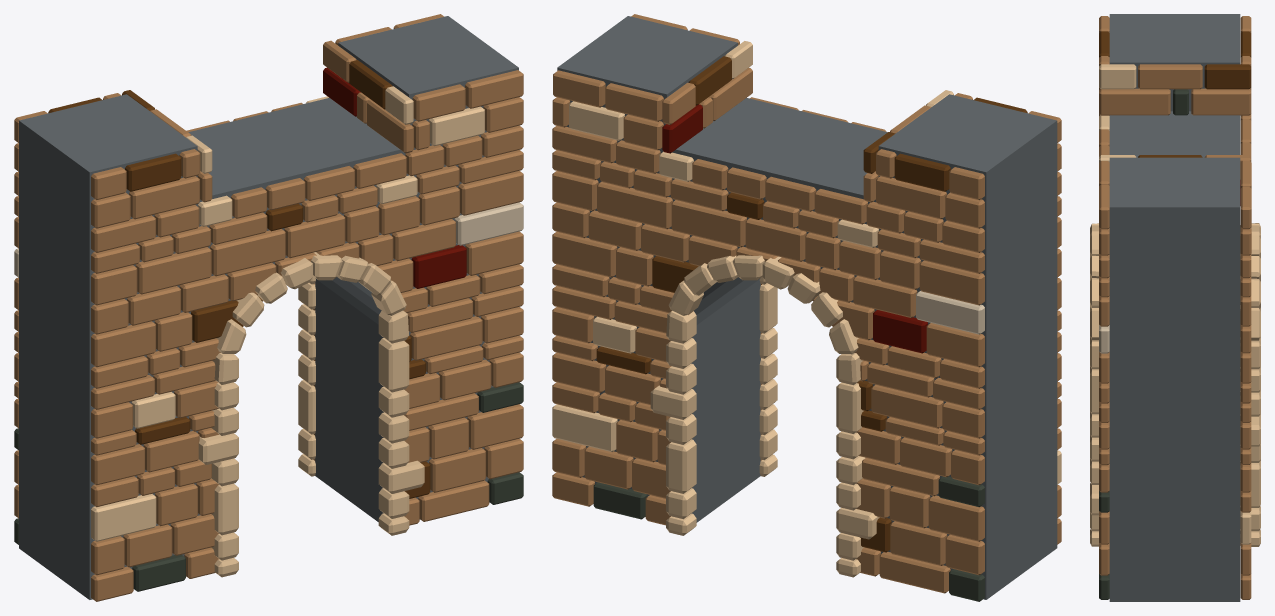
Rendered from wall-section-with-doorway.glb.
3 views of the same model, side by side, from view 1: azimuth 30°, elevation 25°; view 2: azimuth 150°, elevation 25°; view 3: azimuth 270°, elevation 25° (orthographic). The views are drawn at different scales.
Parts seen in each view (by area): view 1: wall-back-lower, wall-core, doorframe.001, wall-back-upper-right, wall-back-upper-left, wall-crenellation-right, doorframe.002, wall-front-lower, wall-crenellation-left, wall-front-upper-right; view 2: wall-front-lower, wall-core, doorframe.002, wall-front-upper-left, wall-front-upper-right, wall-crenellation-right, doorframe.001, wall-back-lower, wall-crenellation-left; view 3: wall-core, wall-crenellation-left, wall-front-lower, wall-back-lower, doorframe.002, doorframe.001, wall-front-upper-left, wall-back-upper-right, wall-front-upper-right, wall-crenellation-right, wall-back-upper-left.
Part boxes in pixels (<box>): wall-back-lower: <box>91,125,523,601</box>; wall-core: <box>19,16,518,599</box>; doorframe.001: <box>198,252,424,577</box>; wall-back-upper-right: <box>412,70,523,150</box>; wall-back-upper-left: <box>91,149,200,228</box>; wall-crenellation-right: <box>323,40,413,153</box>; doorframe.002: <box>298,276,315,476</box>; wall-front-lower: <box>14,96,328,544</box>; wall-crenellation-left: <box>122,90,212,202</box>; wall-front-upper-right: <box>14,93,121,171</box>; wall-front-lower: <box>552,125,984,601</box>; wall-core: <box>557,16,1057,599</box>; doorframe.002: <box>650,255,879,577</box>; wall-front-upper-left: <box>552,70,663,150</box>; wall-front-upper-right: <box>876,149,984,228</box>; wall-crenellation-right: <box>662,41,752,153</box>; doorframe.001: <box>759,276,777,476</box>; wall-back-lower: <box>750,97,1061,544</box>; wall-crenellation-left: <box>863,90,953,202</box>; wall-core: <box>1109,14,1240,601</box>; wall-crenellation-left: <box>1099,64,1251,115</box>; wall-front-lower: <box>1240,114,1251,599</box>; wall-back-lower: <box>1099,114,1109,599</box>; doorframe.002: <box>1240,223,1260,546</box>; doorframe.001: <box>1090,223,1098,546</box>; wall-front-upper-left: <box>1240,160,1251,255</box>; wall-back-upper-right: <box>1099,161,1109,255</box>; wall-front-upper-right: <box>1240,16,1251,89</box>; wall-crenellation-right: <box>1099,155,1251,205</box>; wall-back-upper-left: <box>1099,16,1109,89</box>.
Bounding box in the file's own units: 2.1 × 2 × 0.7841.
